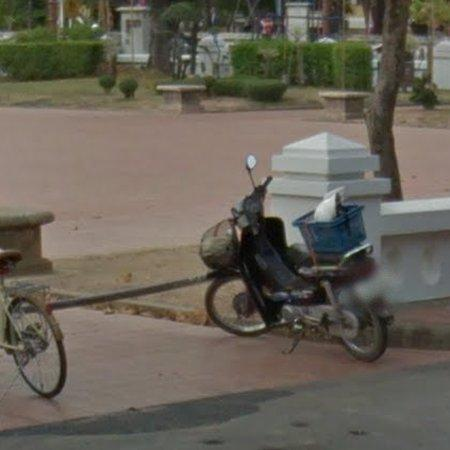motorcycles: (200, 177, 391, 361)
